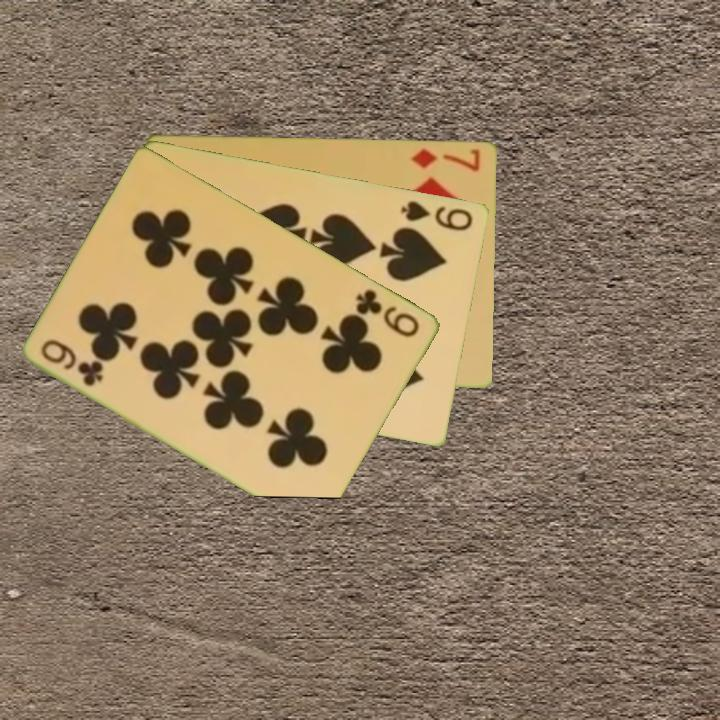7d: (407, 144, 484, 174)
9c: (352, 285, 423, 340), (37, 335, 107, 390)
9s: (398, 196, 476, 234)
